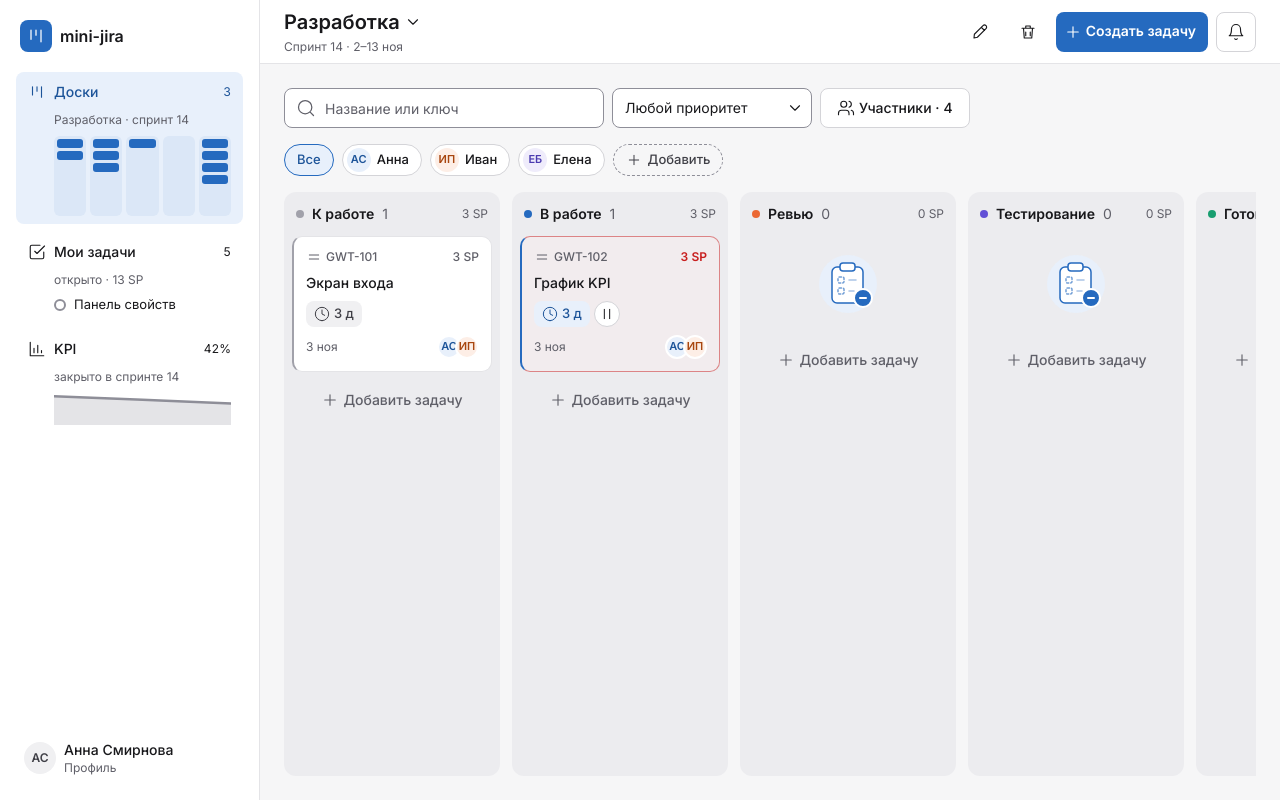
Test: управление доской › показывает ошибку удаления и оставляет пользователя на доске
Click the button named "Удалить доску" at (1028, 32), box [1008,12,1048,52]
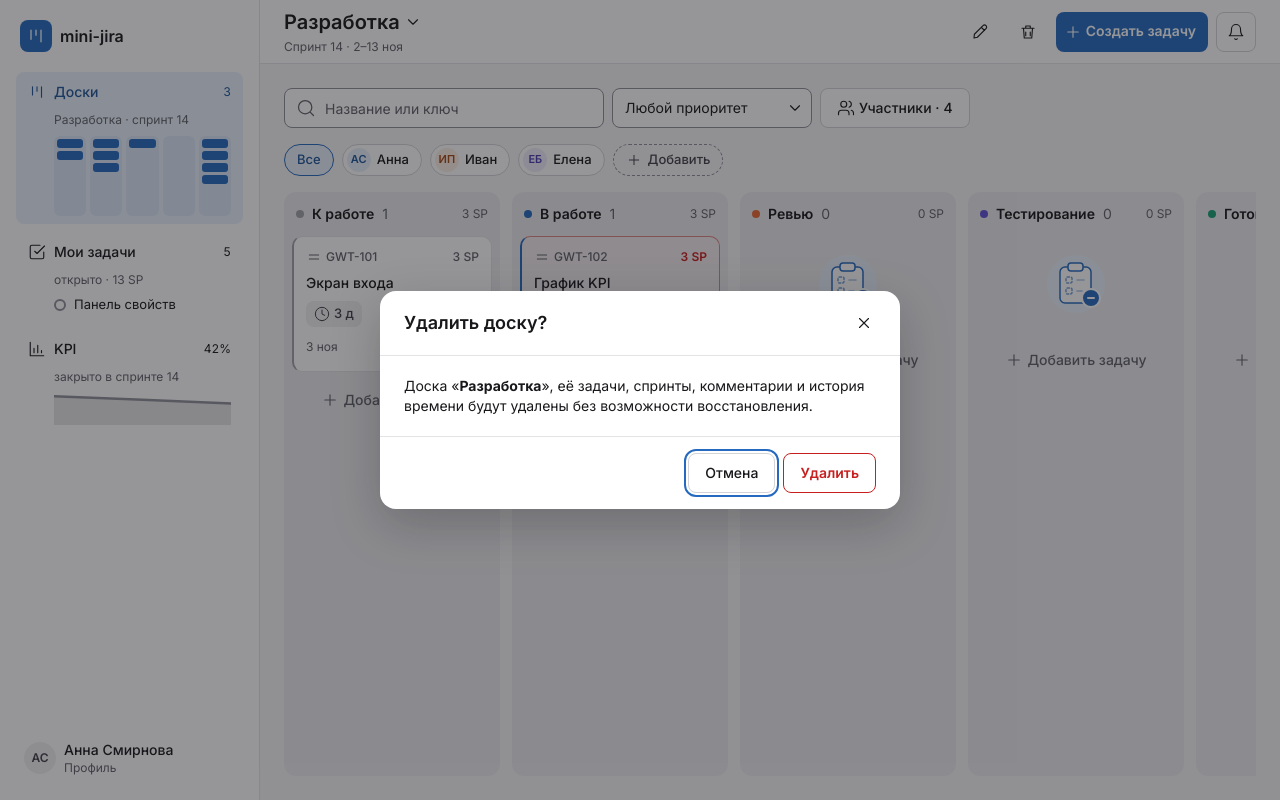
Click the button "Удалить" at (830, 473), box [783,453,876,493]
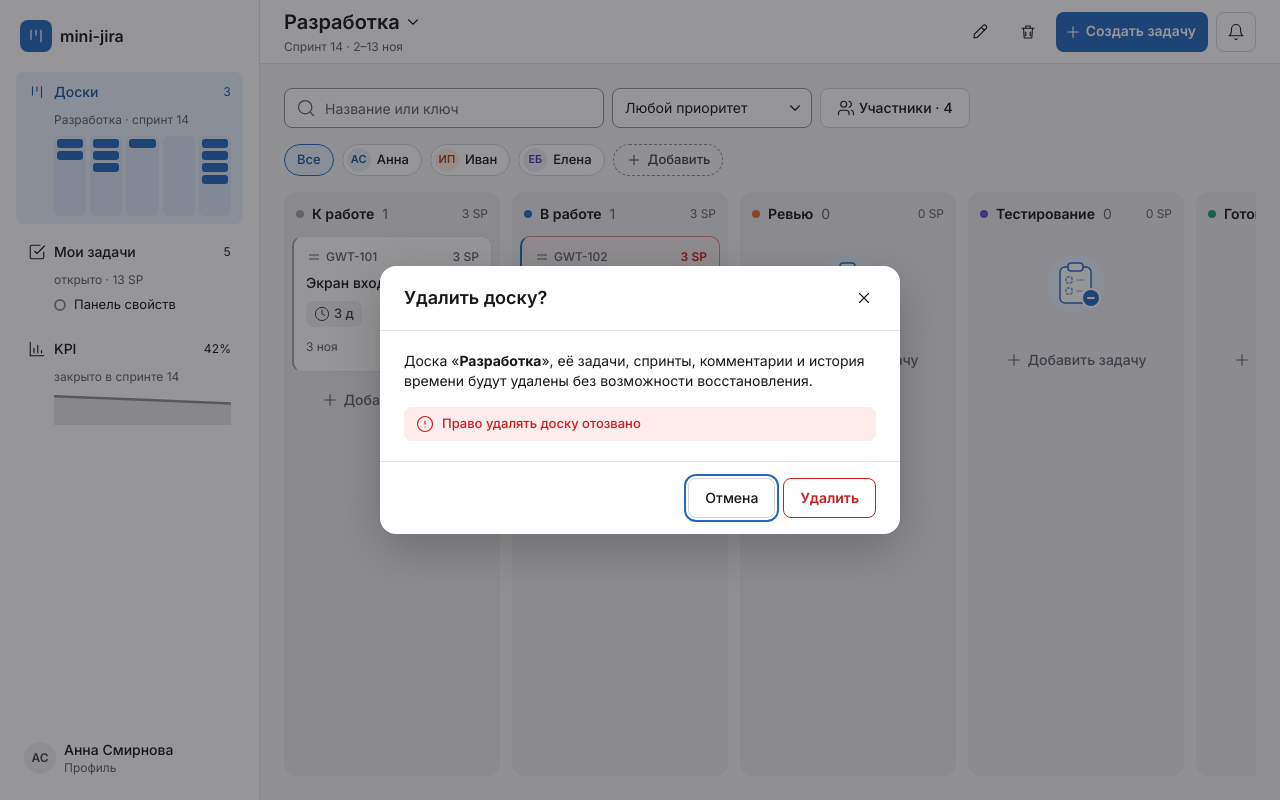
Now the button "Удалить" is enabled, box [783,478,876,518]
Now the message reads "Право удалять доску отозвано", box [442,415,641,431]
